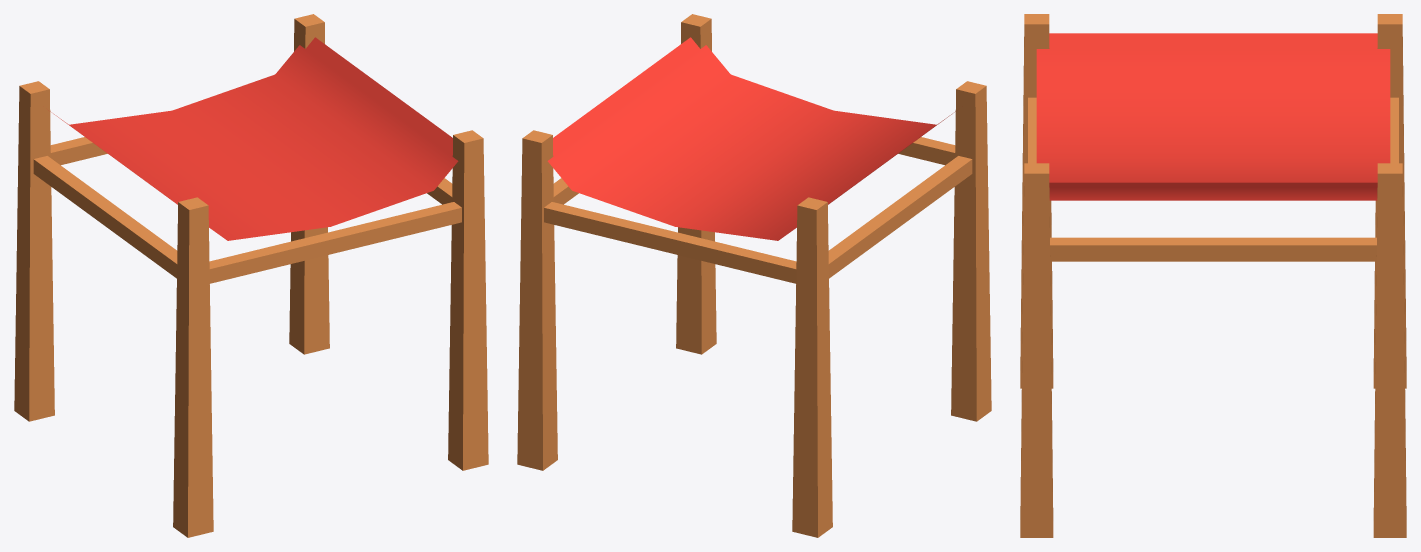
The model's file is Structure Cloth.glb.
The picture shows the model from 3 angles, left to right: view 1: azimuth 30°, elevation 25°; view 2: azimuth 150°, elevation 25°; view 3: azimuth 270°, elevation 25°; orthographic projection. The views are drawn at different scales.
Parts seen in each view (by area): view 1: structureCloth; view 2: structureCloth; view 3: structureCloth.
Boxes of the visible parts, box(x1,y1,x2,y2) form: structureCloth: box(14, 14, 488, 537); structureCloth: box(517, 14, 991, 537); structureCloth: box(1020, 14, 1406, 537).
Size of the model in its own units: 0.5 by 0.5175 by 0.5.
